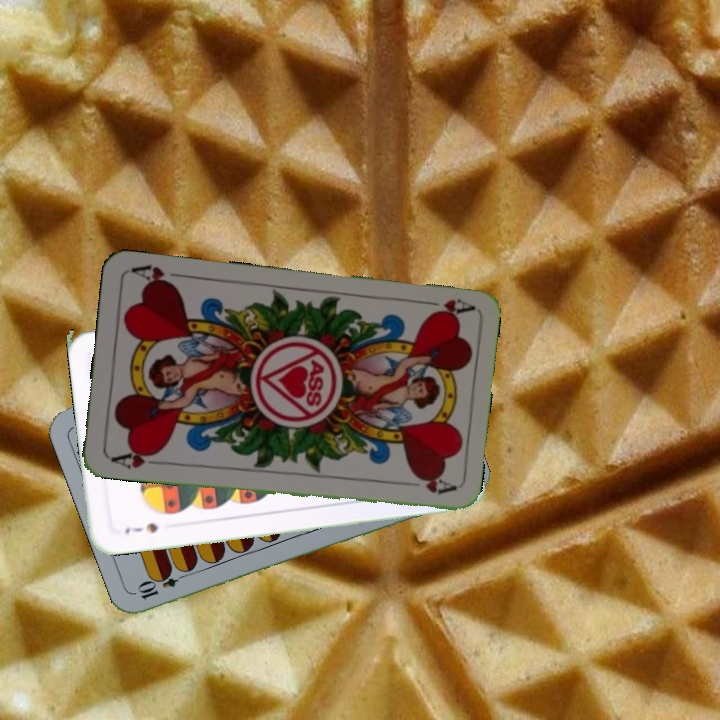E10: (134, 567, 191, 602)
HA: (416, 294, 475, 321), (106, 445, 166, 471)
S7: (121, 518, 160, 537)
